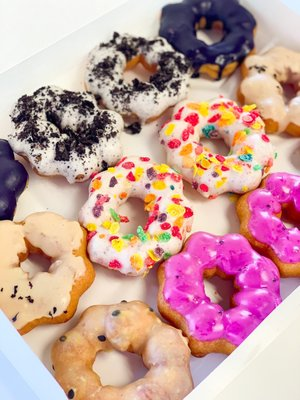salad: (156, 231, 282, 358), (51, 300, 195, 400), (79, 157, 195, 277), (157, 97, 276, 199), (0, 212, 95, 335), (7, 85, 124, 184), (82, 33, 191, 129), (159, 0, 257, 81), (236, 172, 300, 279), (239, 44, 300, 136), (0, 139, 29, 222)
